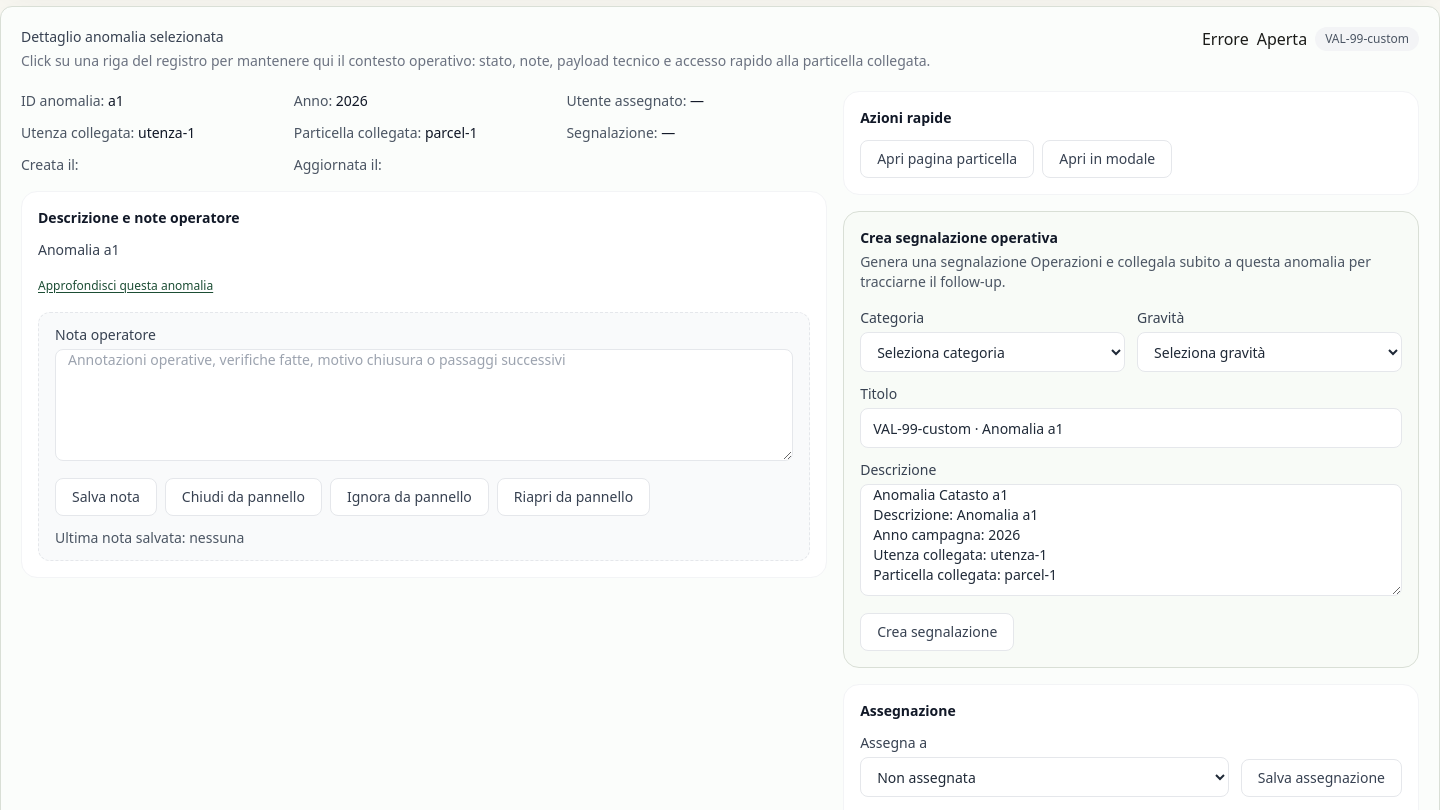
Scenario: Catasto anomalie manual queue characterization › note error {} preserves draft and allows retry
The image size is (1440, 810).
(page scrolled)
Expected: the button "Salva nota" is shown, [55,478,157,516]
Replace the text in the text box labelled "Nota operatore" with "keep draft". click: (424,405)
box: [55,349,793,461]
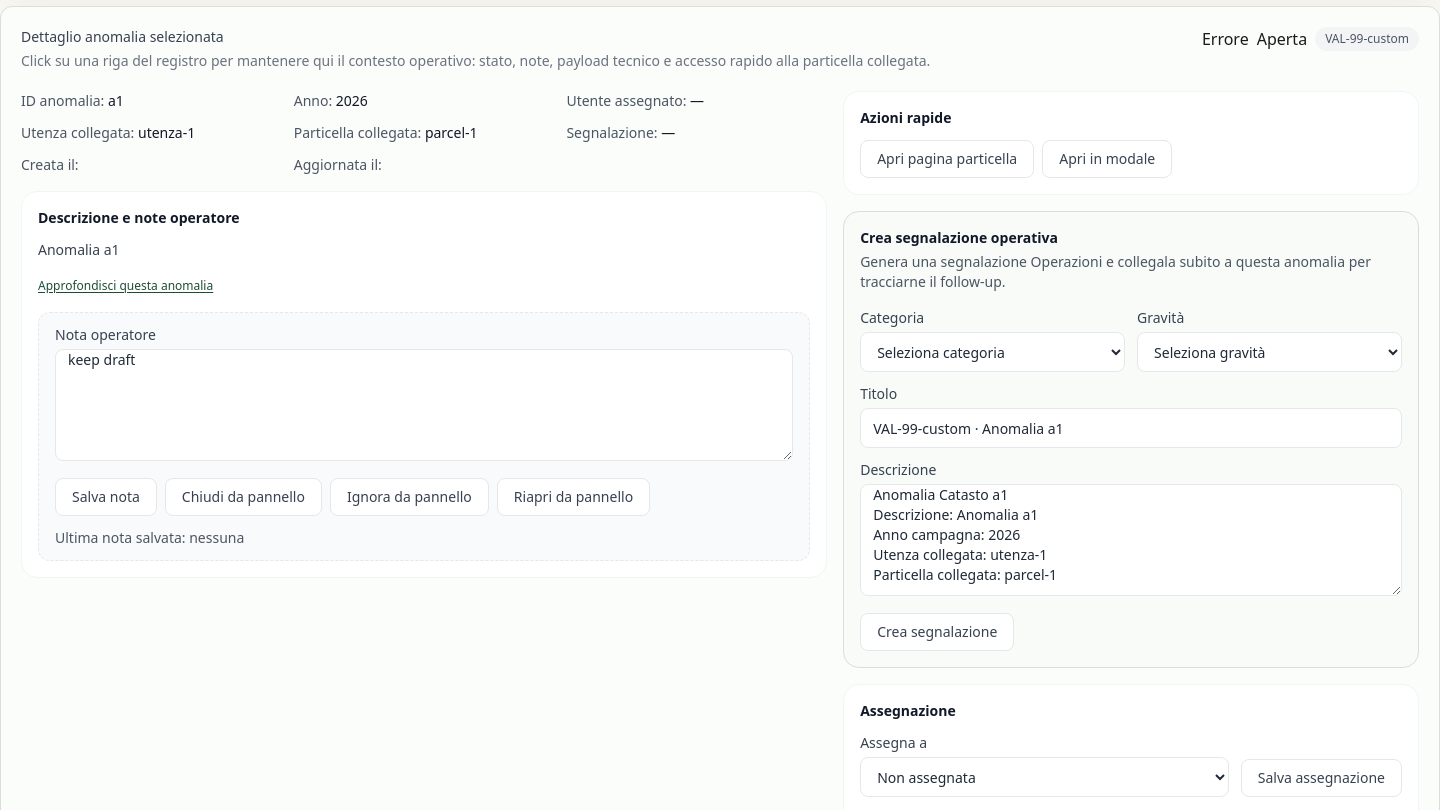
Click the button "Salva nota". click: (106,497)
box: [55,478,157,516]
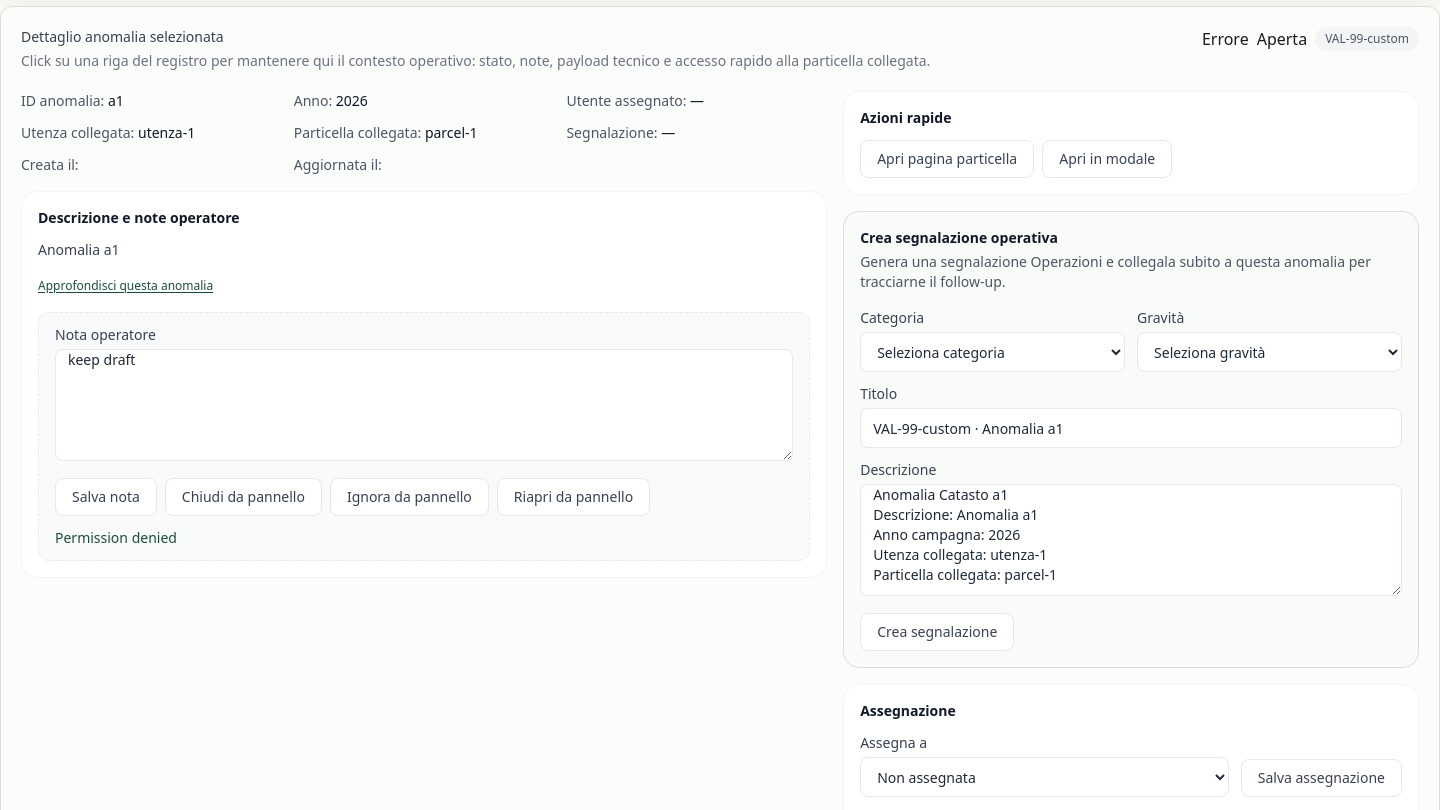
Now the text "Permission denied" is shown, box [55,528,177,547]
Click the button "Salva nota". click: (106,497)
box: [55,478,157,516]
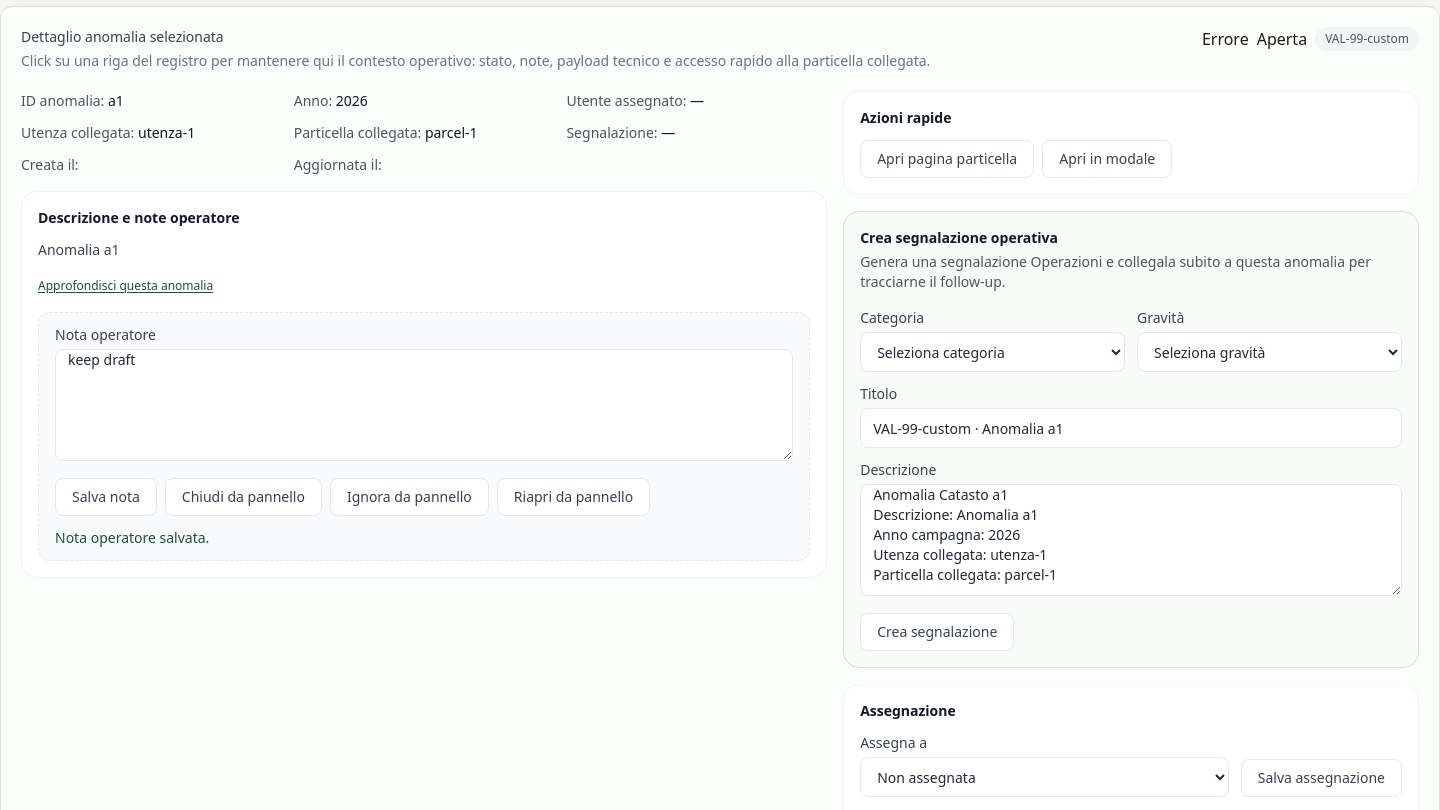
Now the text "Nota operatore salvata." is shown, box [55,528,209,547]
